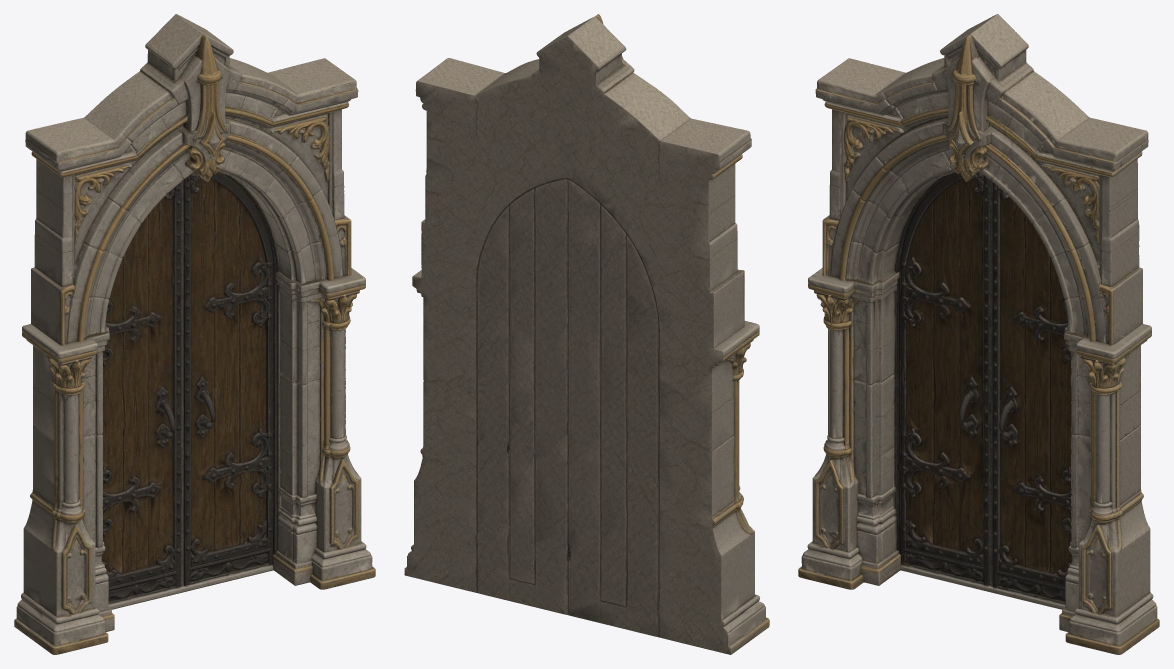
Rendered from Meshy_AI_model.glb.
3 views of the same model, side by side, from view 1: azimuth 30°, elevation 25°; view 2: azimuth 150°, elevation 25°; view 3: azimuth 330°, elevation 25° (orthographic).
Visible parts, largest first — view 1: mesh_node; view 2: mesh_node; view 3: mesh_node.
Boxes of the visible parts, x1,y1,x2,y2 form: mesh_node: (14,14,375,654); mesh_node: (404,14,769,654); mesh_node: (798,14,1159,654).
Size of the model in its own units: 1.12 by 1.9 by 0.2405.
Materials: 1 (1 with a texture image).
